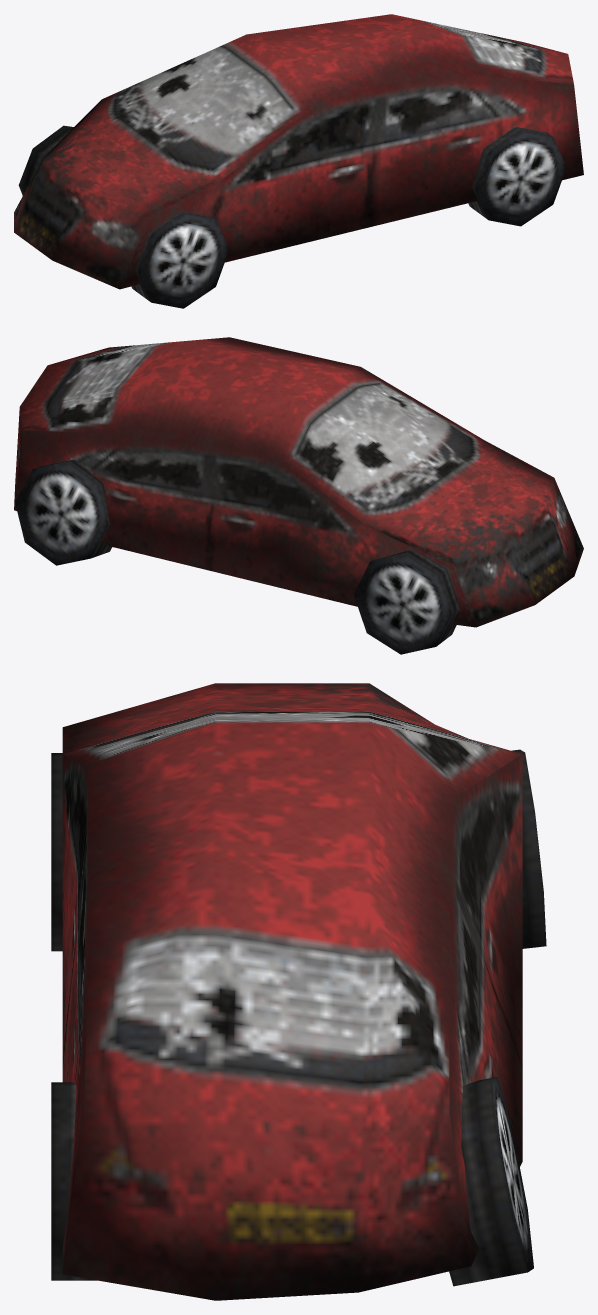
File: car4_1.fbx
3 renders of one model, top to bottom at view 1: azimuth 30°, elevation 25°; view 2: azimuth 150°, elevation 25°; view 3: azimuth 270°, elevation 25°, orthographic. The views are drawn at different scales.
Visible parts, largest first — view 1: car4_1; view 2: car4_1; view 3: car4_1.
Boxes of the visible parts, x1,y1,x2,y2 form: car4_1: (14, 14, 583, 308); car4_1: (14, 337, 583, 654); car4_1: (51, 683, 546, 1300).
Size of the model in its own units: 456 by 188 by 154.
Materials: 1 (1 with a texture image).
